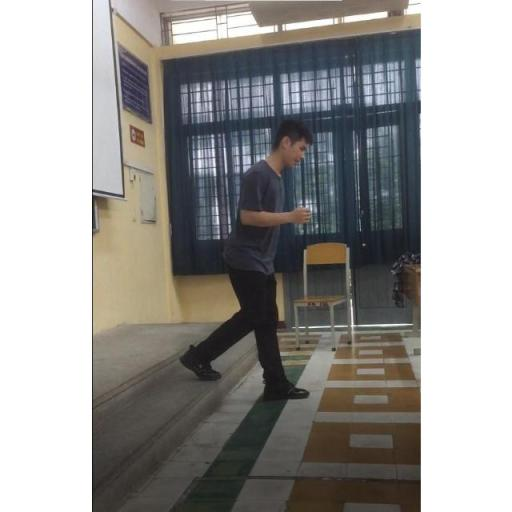Running: (176, 108, 326, 405)
